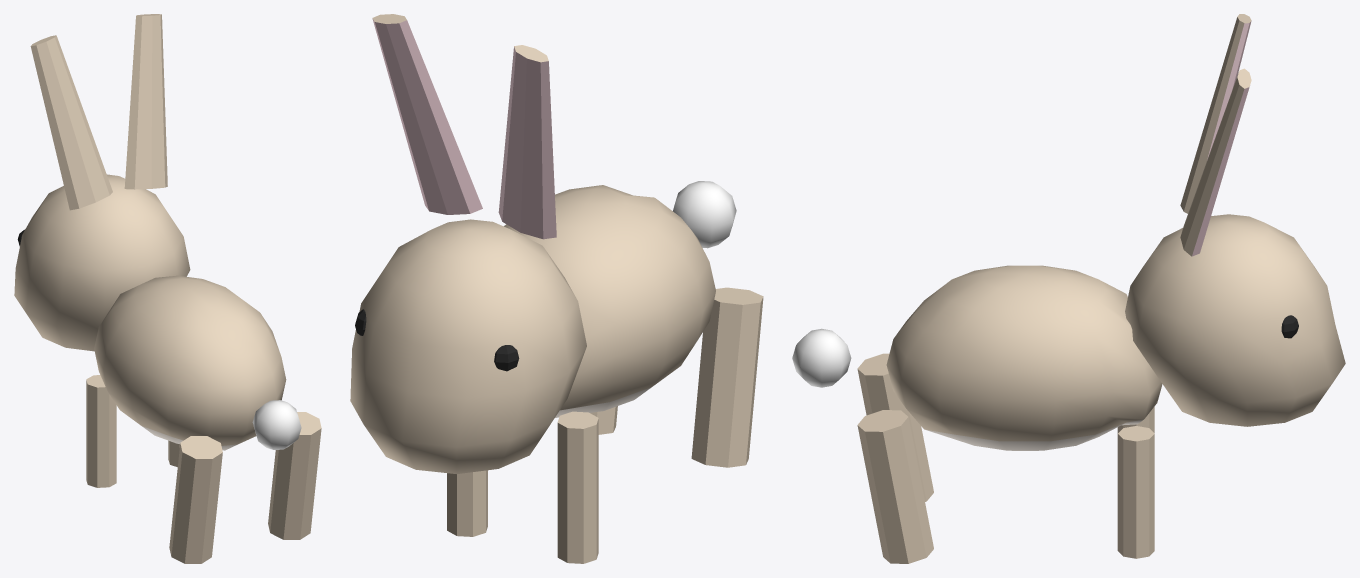
Rendered from rabbit.glb.
3 views of the same model, side by side, from view 1: azimuth 30°, elevation 25°; view 2: azimuth 150°, elevation 25°; view 3: azimuth 270°, elevation 25° (orthographic). The views are drawn at different scales.
Visible parts, largest first — view 1: RabbitBody; view 2: RabbitBody, eye_temp_-1; view 3: RabbitBody.
Part boxes in pixels (left/top/right/bottom): RabbitBody: left=14, top=14, right=321, bottom=563; RabbitBody: left=350, top=14, right=763, bottom=563; eye_temp_-1: left=494, top=345, right=519, bottom=371; RabbitBody: left=792, top=14, right=1345, bottom=563.
Bounding box in the file's own units: 0.544 × 1.44 × 1.5.
